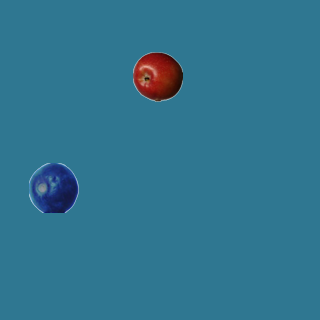Apple Braeburn: (132, 51, 182, 101)
Huckleberry: (28, 162, 78, 212)
